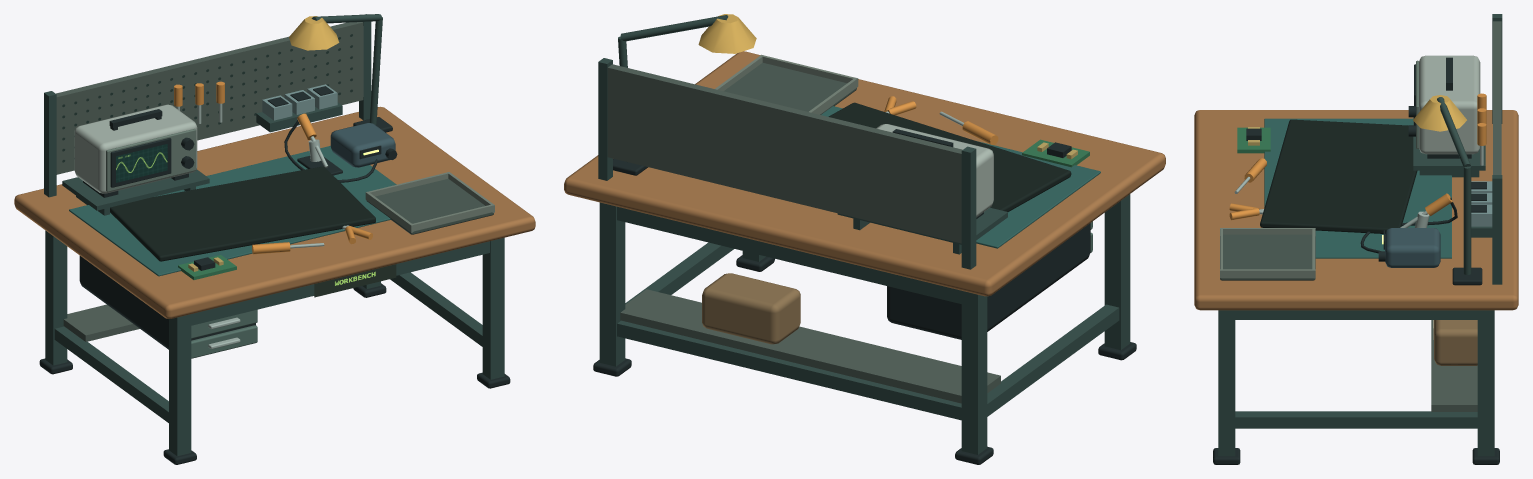
Rendered from workbench.glb.
The picture shows the model from 3 angles, left to right: view 1: azimuth 30°, elevation 25°; view 2: azimuth 150°, elevation 25°; view 3: azimuth 270°, elevation 25°; orthographic projection. The views are drawn at different scales.
Parts seen in each view (by area): view 1: electronics-workbench, workbench; view 2: electronics-workbench, workbench; view 3: electronics-workbench, workbench.
Part boxes in pixels (box(x1,y1,x2,y2)): electronics-workbench: box(14, 14, 535, 464); workbench: box(110, 166, 396, 297); electronics-workbench: box(564, 14, 1165, 464); workbench: box(828, 102, 1071, 211); electronics-workbench: box(1194, 14, 1518, 464); workbench: box(1260, 119, 1417, 233).
Size of the model in its own units: 5.25 by 4.19 by 3.8.
Materials: 89 (3 with a texture image).
